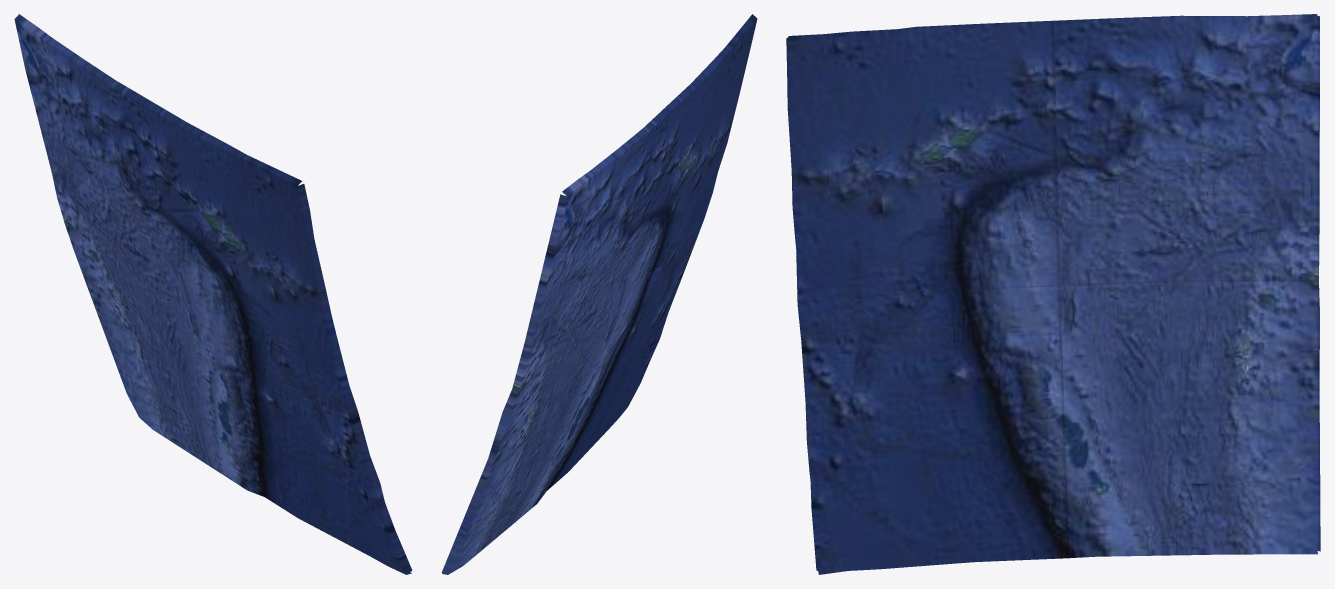
The picture shows the model from 3 angles, left to right: view 1: azimuth 30°, elevation 25°; view 2: azimuth 150°, elevation 25°; view 3: azimuth 270°, elevation 25°; orthographic projection. The views are drawn at different scales.
Size of the model in its own units: 495497 by 1208059 by 1233865.
Materials: 1 (1 with a texture image).
